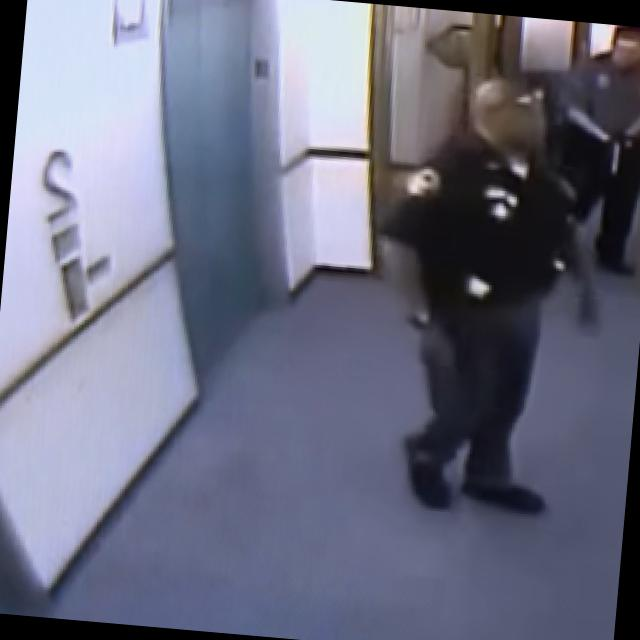person: (360, 73, 586, 508), (527, 19, 640, 288)
